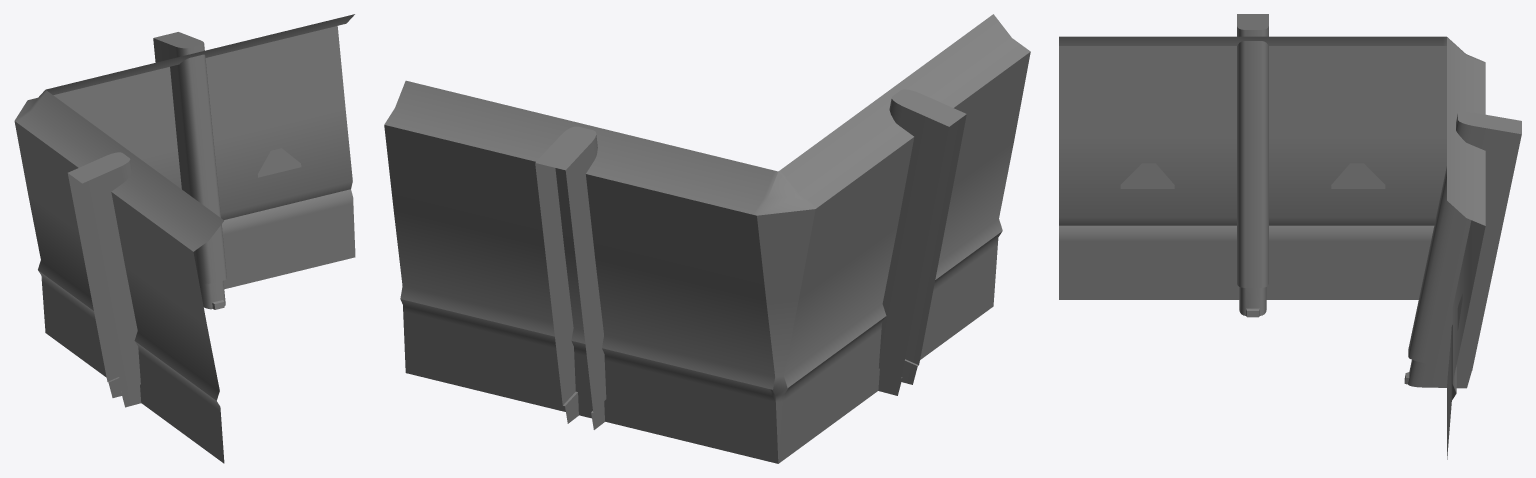
Rendered from q-scifi-mod-wallastra-corner-square-inner.glb.
The picture shows the model from 3 angles, left to right: view 1: azimuth 30°, elevation 25°; view 2: azimuth 150°, elevation 25°; view 3: azimuth 270°, elevation 25°; orthographic projection. The views are drawn at different scales.
Visible parts, largest first — view 1: WallAstra_Corner_Square_Inner; view 2: WallAstra_Corner_Square_Inner; view 3: WallAstra_Corner_Square_Inner.
Boxes of the visible parts, left/top/right/bottom form: WallAstra_Corner_Square_Inner: left=14, top=14, right=355, bottom=463; WallAstra_Corner_Square_Inner: left=384, top=14, right=1030, bottom=463; WallAstra_Corner_Square_Inner: left=1059, top=14, right=1521, bottom=459.
Size of the model in its own units: 4.77 by 3.03 by 4.77.
5 materials, 5 textured.
